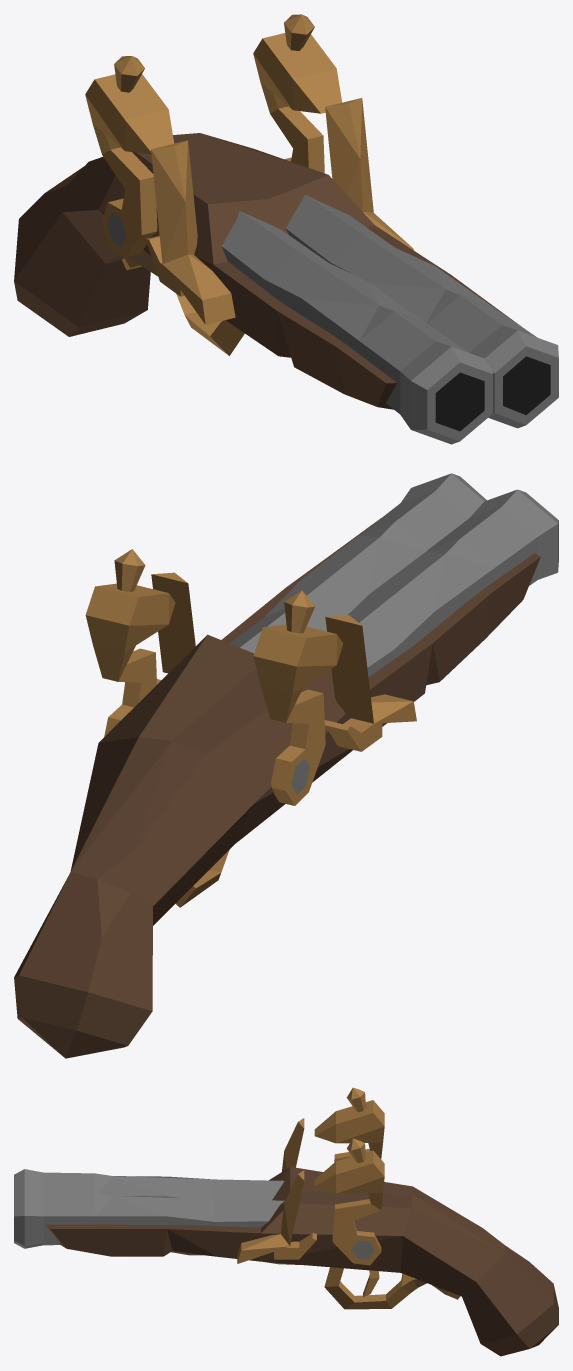
Rendered from SM_Wep_MusketPistol_DoubleBarrel_02.glb.
3 views of the same model, one above another, from view 1: azimuth 30°, elevation 25°; view 2: azimuth 150°, elevation 25°; view 3: azimuth 270°, elevation 25° (orthographic). The views are drawn at different scales.
Parts seen in each view (by area): view 1: SM_Wep_MusketPistol_DoubleBarrel_02; view 2: SM_Wep_MusketPistol_DoubleBarrel_02; view 3: SM_Wep_MusketPistol_DoubleBarrel_02.
Part boxes in pixels (x1,y1,x2,y2): SM_Wep_MusketPistol_DoubleBarrel_02: (14, 14, 558, 444); SM_Wep_MusketPistol_DoubleBarrel_02: (14, 473, 558, 1058); SM_Wep_MusketPistol_DoubleBarrel_02: (14, 1087, 558, 1356).
Size of the model in its own units: 0.00142 by 0.00246 by 0.00517.
